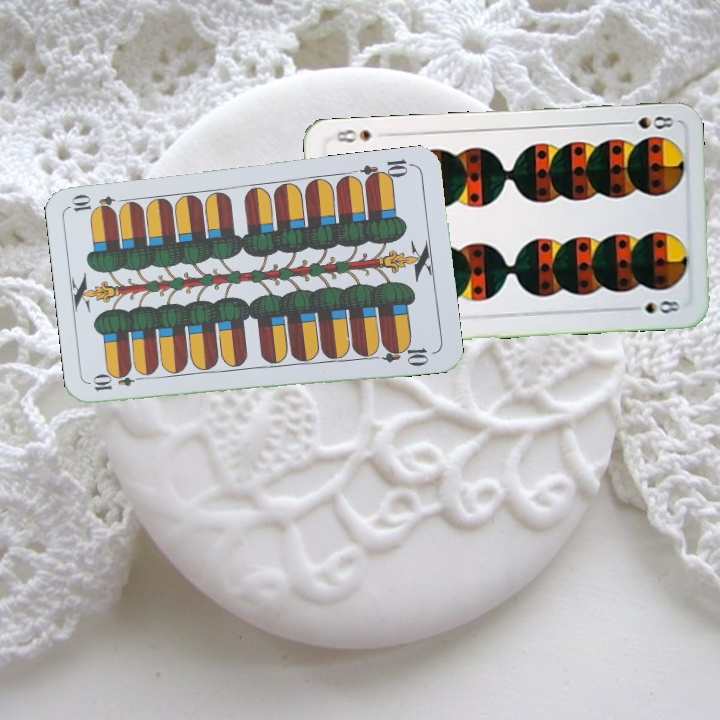E10: (357, 155, 416, 186), (89, 370, 148, 394)
S8: (617, 111, 676, 132)
